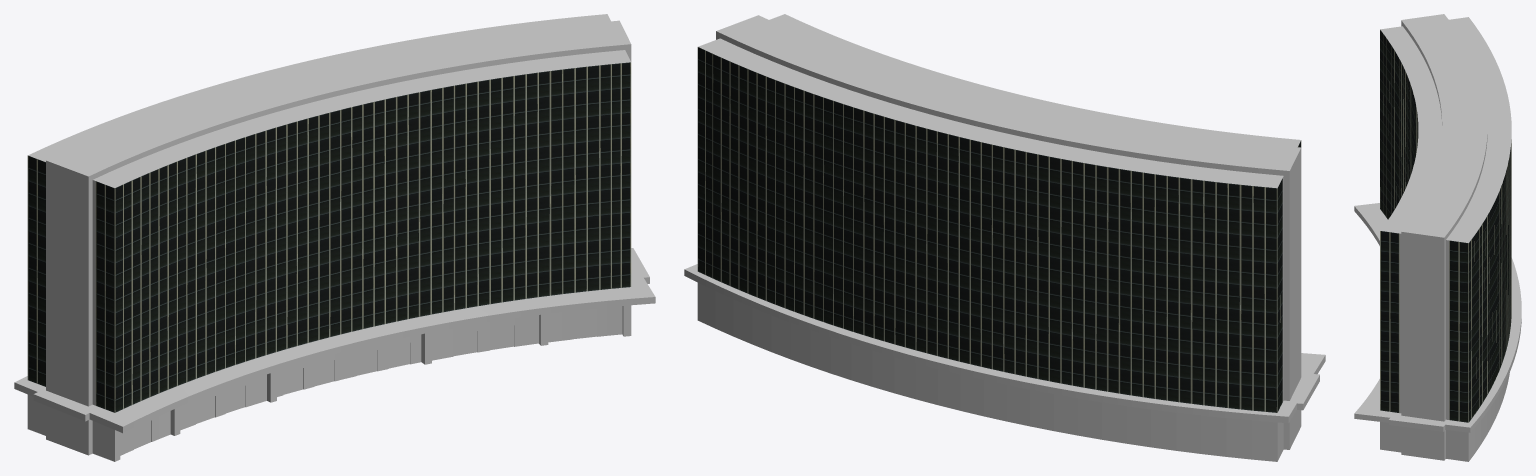
3 renders of one model, left to right at view 1: azimuth 30°, elevation 25°; view 2: azimuth 150°, elevation 25°; view 3: azimuth 270°, elevation 25°, orthographic. The views are drawn at different scales.
Visible parts, largest first — view 1: BC-045; view 2: BC-045; view 3: BC-045.
Part boxes in pixels (<box>): BC-045: <box>14,14,655,461</box>; BC-045: <box>684,14,1325,461</box>; BC-045: <box>1354,14,1521,461</box>.
Size of what is drawn, in the model's own units: 77.49 by 34.18 by 23.27.
